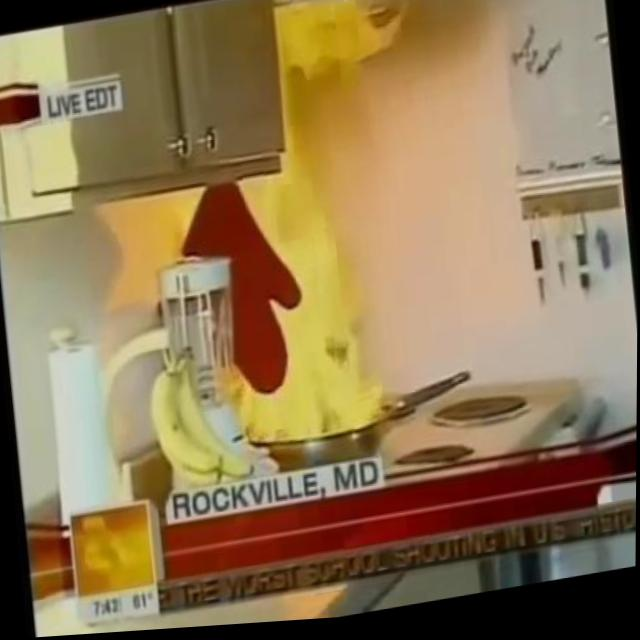fire: (189, 0, 458, 453)
